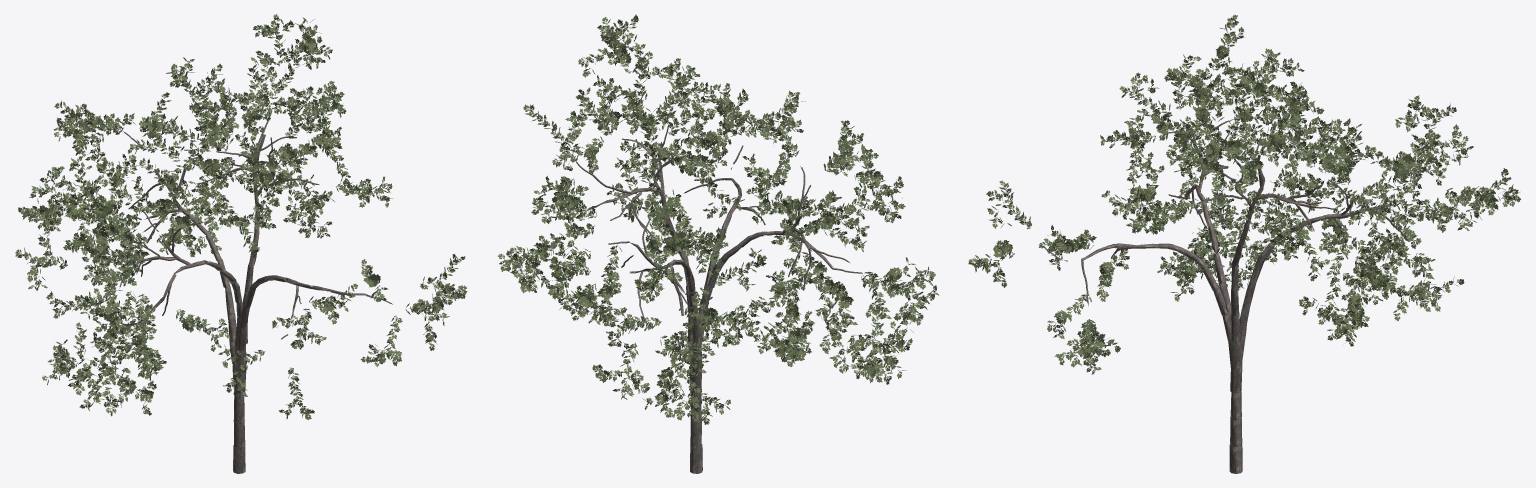
Rendered from elm4.glb.
3 renders of one model, left to right at view 1: azimuth 30°, elevation 25°; view 2: azimuth 150°, elevation 25°; view 3: azimuth 270°, elevation 25°, orthographic. The views are drawn at different scales.
Parts seen in each view (by area): view 1: leaves, bark; view 2: leaves, bark; view 3: leaves, bark.
Boxes of the visible parts, x1,y1,x2,y2 form: leaves: (15, 14, 467, 419); bark: (119, 109, 392, 473); leaves: (497, 14, 939, 424); bark: (575, 124, 862, 473); leaves: (968, 14, 1520, 374); bark: (1043, 119, 1421, 473).
Bounding box in the file's own units: 20.7 × 24.05 × 26.87.
Materials: 2 (2 with a texture image).
